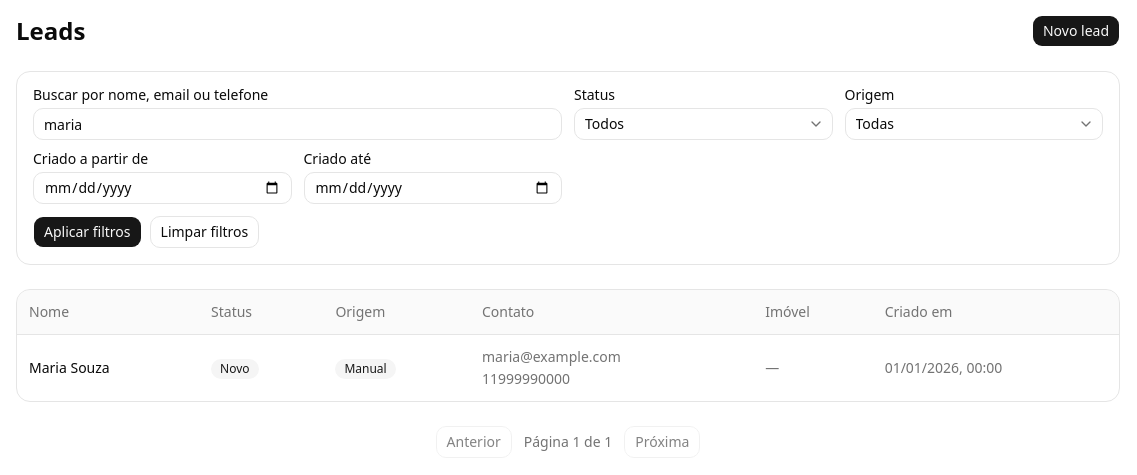
Test: LeadsPage › clears filters back to defaults
expect the link "Maria Souza" is shown: met, box [29,358,110,377]
expect the field labelled "Buscar por nome, email ou telefone" holds "maria": met, box [33,108,562,140]
Click the button "Limpar filtros" at (204, 232), box [150,216,259,248]
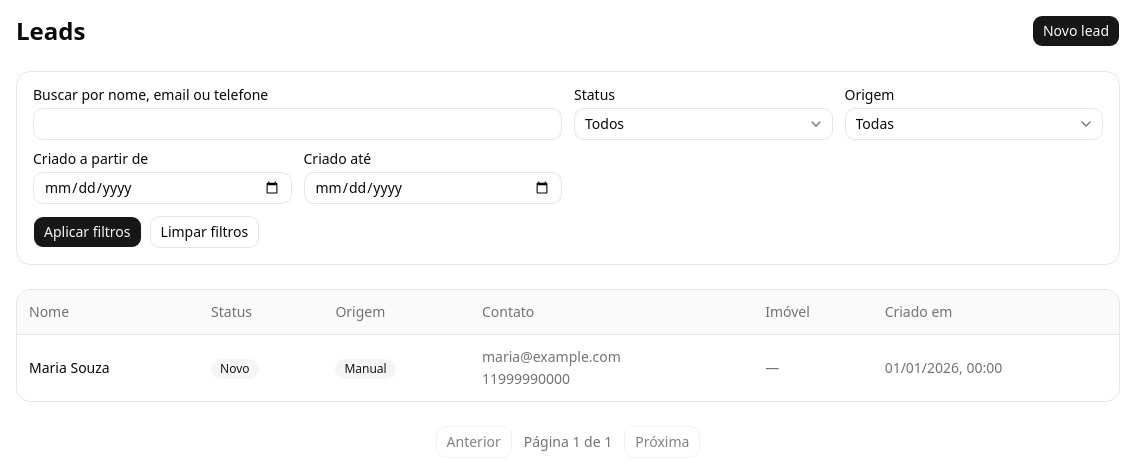
expect the field labelled "Buscar por nome, email ou telefone" is empty: met, box [33,108,562,140]
